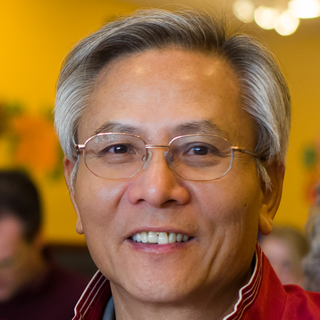eye: (175, 139, 223, 164), (96, 139, 140, 163)
